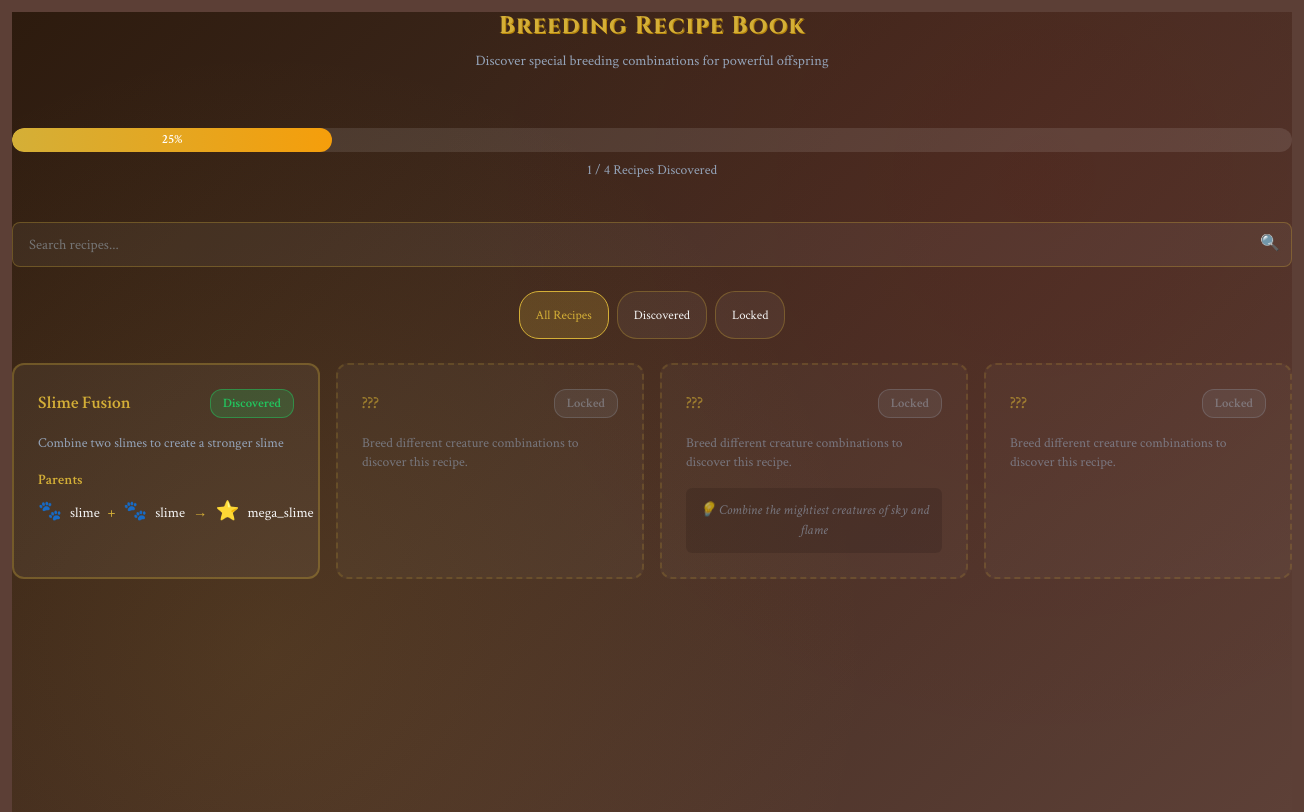
BreedingRecipeBook › Filter by Discovery Status › should filter to discovered recipes only
Expected: the 1st text "???" is shown, [362,390,379,416]
Click the button "Discovered". click: (662, 315)
box: [617,291,707,339]
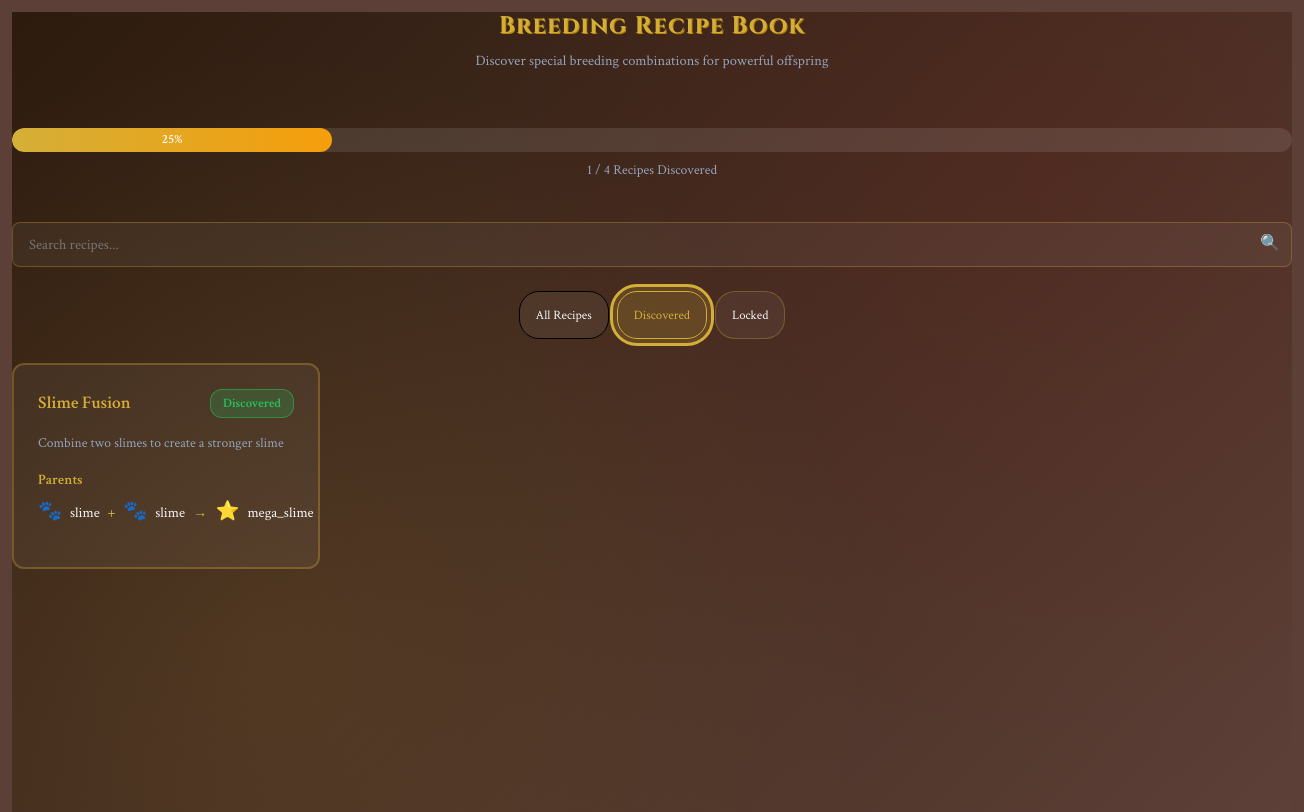
Expected: the text "Slime Fusion" is shown, [38,390,131,416]
Expected: the text "???" is gone
